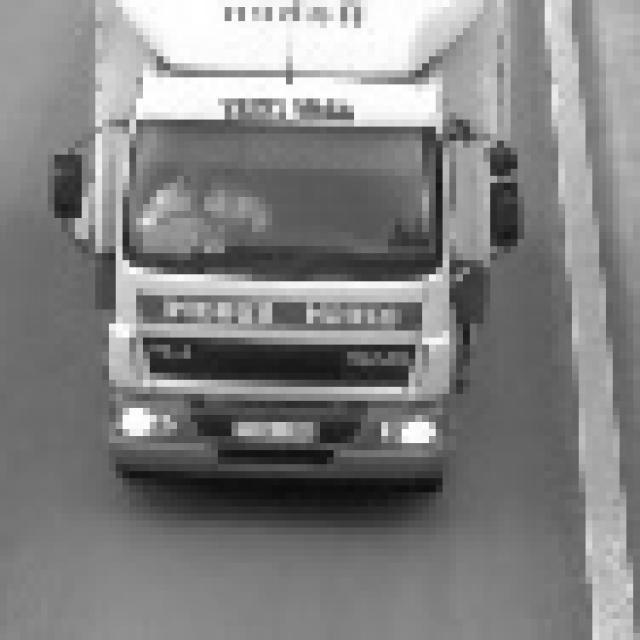truck: (38, 63, 511, 521)
